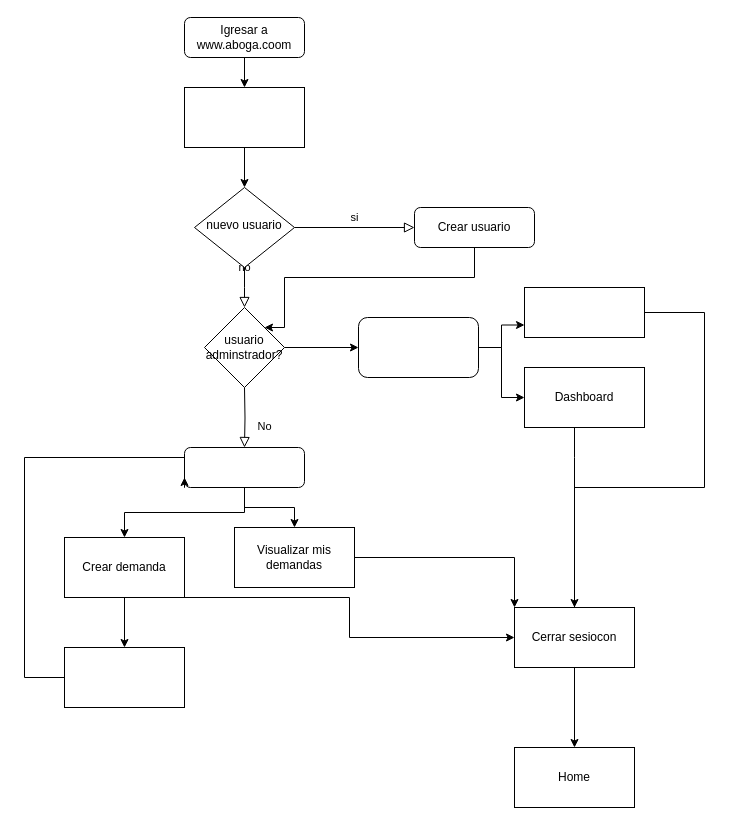
Image size: 730x825. Some labels were removed from this diagram. The shapes that lost their labels are listed below. From the top down, each one's centre as x and y in pixels, then its label:
At [244,117]: "Escoger login".
At [584,312]: "Bandeja".
At [418,347]: "Menu Adminstrador".
At [244,467]: "Menu Cliente".
At [124,677]: "Pagar".
